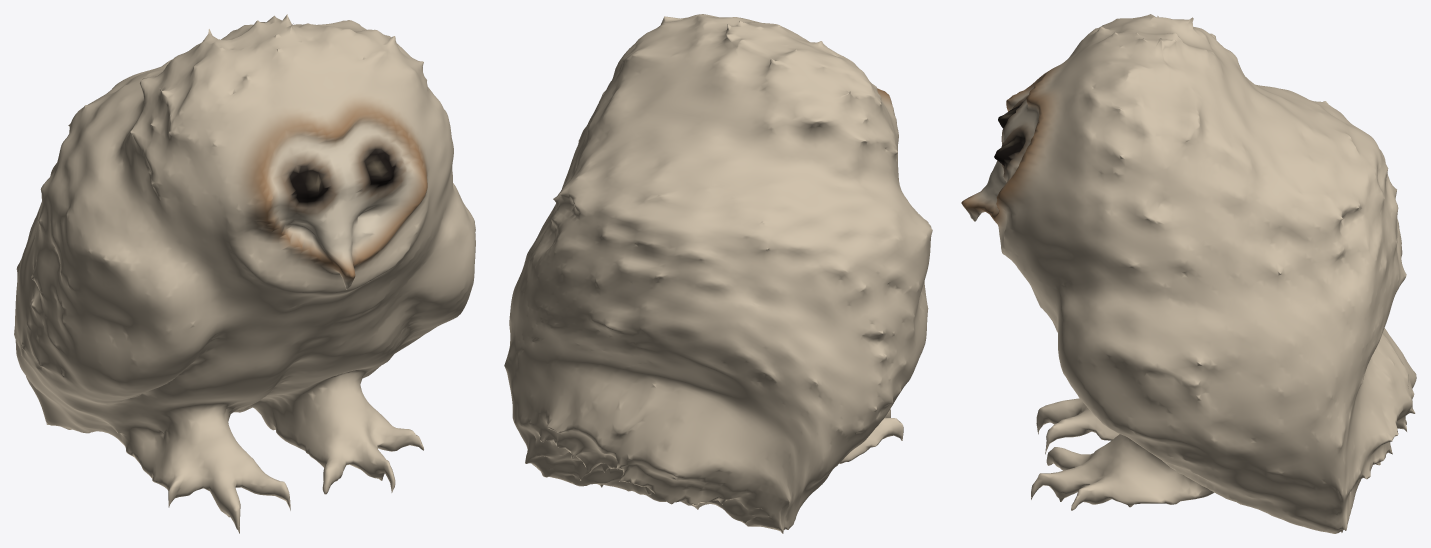
Rendered from tail-tuck-ART_UNAPPROVED.glb.
3 renders of one model, left to right at view 1: azimuth 30°, elevation 25°; view 2: azimuth 150°, elevation 25°; view 3: azimuth 270°, elevation 25°, orthographic. The views are drawn at different scales.
Parts seen in each view (by area): view 1: run100_voxel_55k_REAL_NEURAL_SOURCE; view 2: run100_voxel_55k_REAL_NEURAL_SOURCE; view 3: run100_voxel_55k_REAL_NEURAL_SOURCE.
Part boxes in pixels (x1,y1,x2,y2): run100_voxel_55k_REAL_NEURAL_SOURCE: (14,14,475,533); run100_voxel_55k_REAL_NEURAL_SOURCE: (504,14,932,533); run100_voxel_55k_REAL_NEURAL_SOURCE: (961,14,1416,533).
Bounding box in the file's own units: 1.6 × 1.77 × 1.62.
